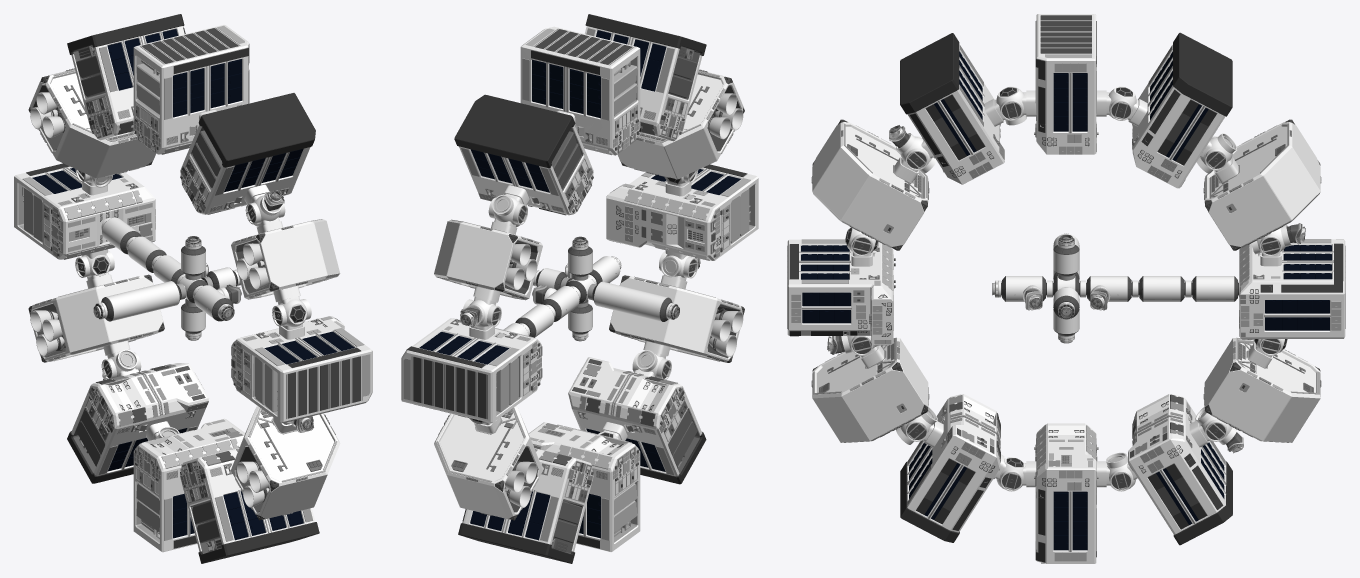
Rendered from Endurance.fbx.
3 renders of one model, left to right at view 1: azimuth 30°, elevation 25°; view 2: azimuth 150°, elevation 25°; view 3: azimuth 270°, elevation 25°, orthographic. The views are drawn at different scales.
Parts seen in each view (by area): view 1: Pod.001, Lab, Command, Pod.003, Habitation, Engine.002, DockingHub, Pod.002, Habitation.001, Pod, Engine, Engine.001 (+7 smaller); view 2: Pod, Lab, Habitation, Command, Pod.002, Engine.001, Pod.003, Habitation.001, DockingHub, Pod.001, Engine.003, Engine.002 (+7 smaller); view 3: Pod, Pod.003, Pod.001, Pod.002, Command, Habitation, Engine, Engine.003, Lab, Habitation.001, Engine.001, Engine.002 (+13 smaller).
Boxes of the visible parts, box(x1,y1,x2,y2) form: Pod.001: box(180, 93, 315, 214); Lab: box(133, 25, 249, 154); Command: box(231, 316, 372, 423); Pod.003: box(67, 363, 209, 483); Habitation: box(14, 163, 155, 259); Engine.002: box(231, 406, 340, 520); DockingHub: box(95, 217, 240, 338); Pod.002: box(180, 447, 319, 563); Habitation.001: box(133, 418, 245, 552); Pod: box(67, 14, 185, 140); Engine: box(28, 68, 156, 178); Engine.001: box(28, 274, 164, 362); Pod: box(454, 94, 593, 215); Lab: box(520, 26, 640, 155); Habitation: box(401, 318, 542, 423); Command: box(606, 164, 758, 260); Pod.002: box(568, 357, 706, 484); Engine.001: box(434, 406, 542, 520); Pod.003: box(458, 448, 593, 563); Habitation.001: box(528, 422, 640, 551); DockingHub: box(503, 239, 678, 339); Pod.001: box(584, 14, 706, 141); Engine.003: box(617, 69, 744, 179); Engine.002: box(609, 275, 744, 362); Pod: box(1132, 32, 1232, 188); Pod.003: box(1128, 394, 1232, 545); Pod.001: box(900, 33, 1004, 184); Pod.002: box(900, 394, 1000, 542); Command: box(787, 239, 895, 345); Habitation: box(1239, 239, 1345, 339); Engine: box(1203, 119, 1321, 250); Engine.003: box(811, 119, 929, 250); Lab: box(1034, 14, 1098, 154); Habitation.001: box(1034, 423, 1098, 563); Engine.001: box(1203, 337, 1321, 442); Engine.002: box(811, 337, 929, 442).
Bounding box in the file's own units: 2910 × 8736 × 8736.
